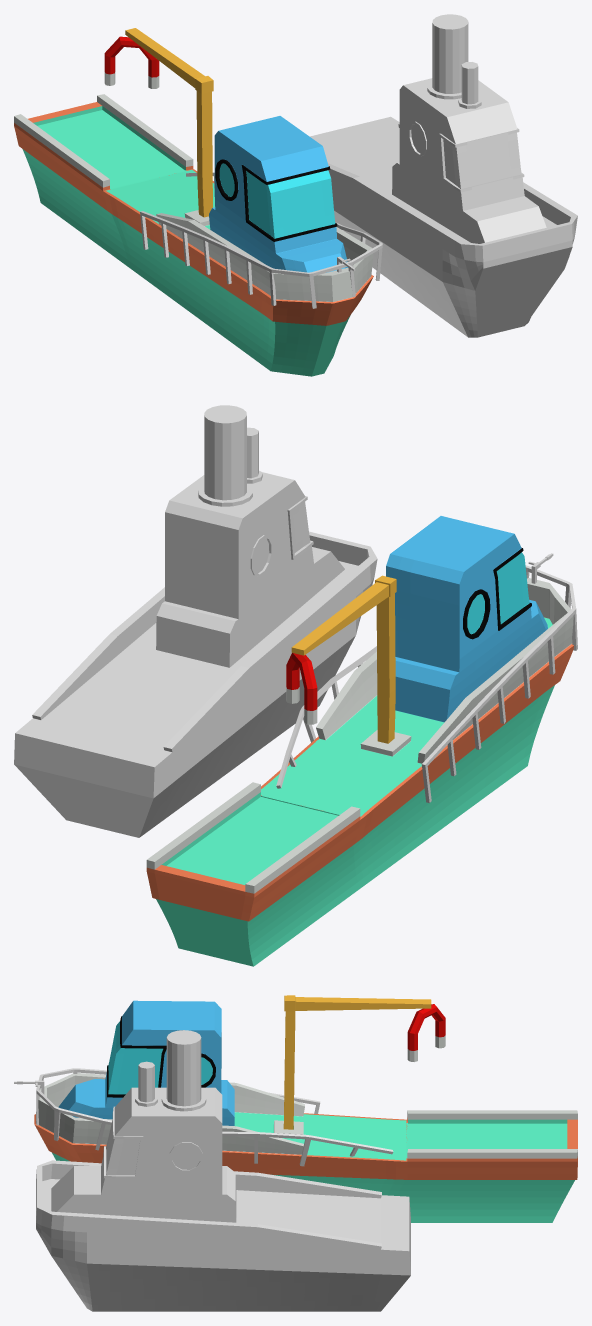
The model's file is MagnetUpgrade.fbx.
The picture shows the model from 3 angles, top to bottom: view 1: azimuth 30°, elevation 25°; view 2: azimuth 150°, elevation 25°; view 3: azimuth 270°, elevation 25°; orthographic projection. The views are drawn at different scales.
Visible parts, largest first — view 1: Boat, StarterBoa(Cargo), StarterBoat, StarterBoat(Claw, Cube, Magnet; view 2: Boat, StarterBoa(Cargo), StarterBoat, StarterBoat(Claw, Cube, Magnet; view 3: Boat, StarterBoa(Cargo), StarterBoat, StarterBoat(Claw, Cube, Magnet.
Part boxes in pixels (x1,y1,x2,y2): Boat: (310, 14, 577, 337); StarterBoa(Cargo): (14, 28, 373, 376); StarterBoat: (103, 30, 373, 376); StarterBoat(Claw: (105, 28, 373, 376); Cube: (140, 172, 382, 308); Magnet: (104, 36, 159, 88); Boat: (14, 405, 377, 837); StarterBoa(Cargo): (146, 516, 573, 966); StarterBoat: (262, 523, 572, 883); StarterBoat(Claw: (261, 527, 573, 875); Cube: (276, 565, 577, 802); Magnet: (286, 653, 317, 724); Boat: (36, 1030, 410, 1311); StarterBoa(Cargo): (34, 995, 577, 1222); StarterBoat: (34, 996, 430, 1195); StarterBoat(Claw: (34, 997, 431, 1195); Cube: (36, 1068, 393, 1166); Magnet: (407, 1004, 445, 1061).
Size of what is drawn, in the model's own units: 965 by 845 by 1660.
